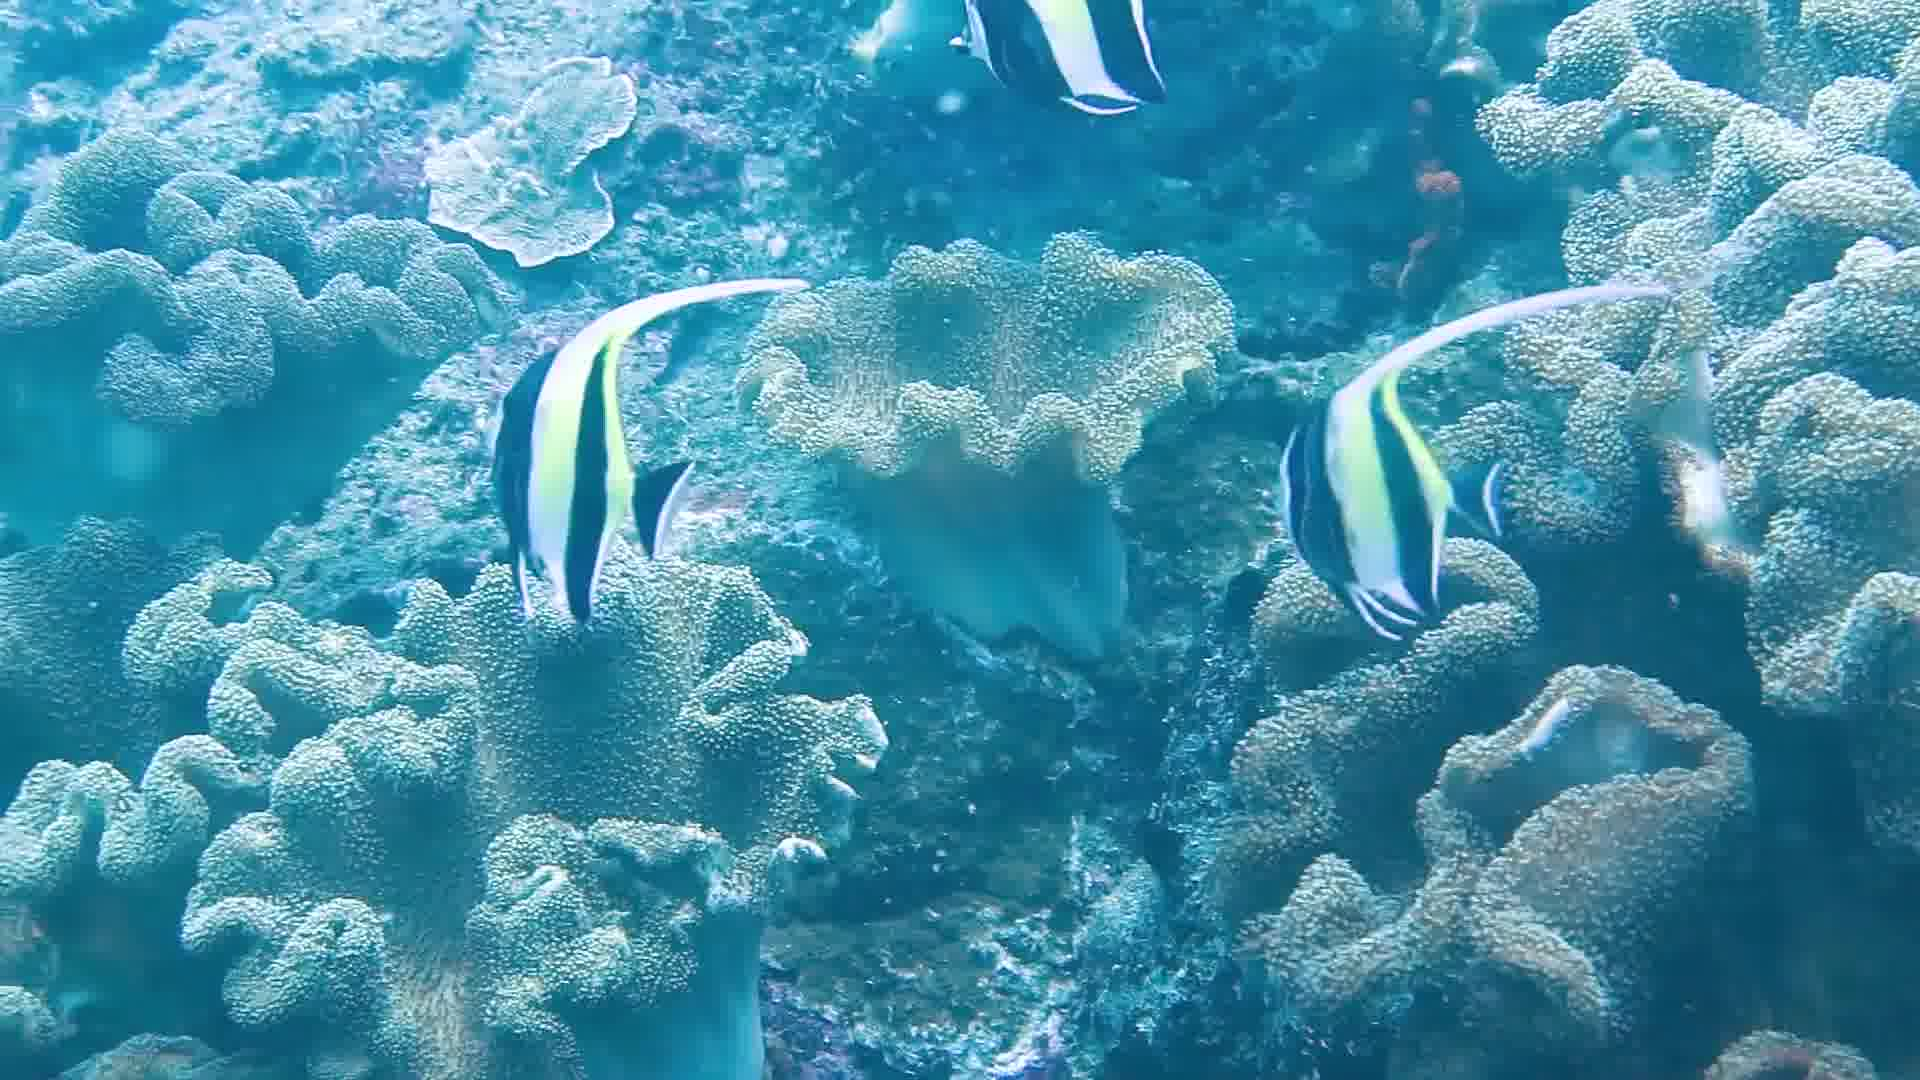Zanclus cornutus: (1255, 309, 1487, 655), (462, 293, 694, 640)
